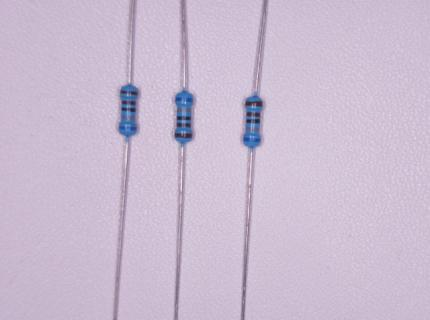Black band: (121, 107, 136, 112), (176, 116, 191, 120), (246, 119, 260, 123)
Blue band: (243, 136, 261, 142), (118, 125, 137, 130), (175, 97, 193, 102)
Brown band: (245, 100, 263, 107), (120, 90, 138, 96), (175, 132, 192, 138), (247, 112, 261, 117), (121, 101, 136, 105), (177, 123, 191, 127)
Grey band: (245, 126, 260, 131), (121, 115, 135, 120), (177, 108, 191, 112)
